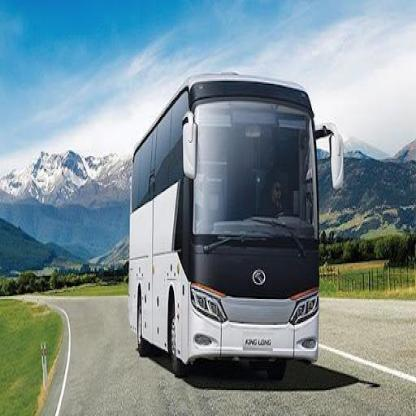Bus: (124, 72, 343, 393)
